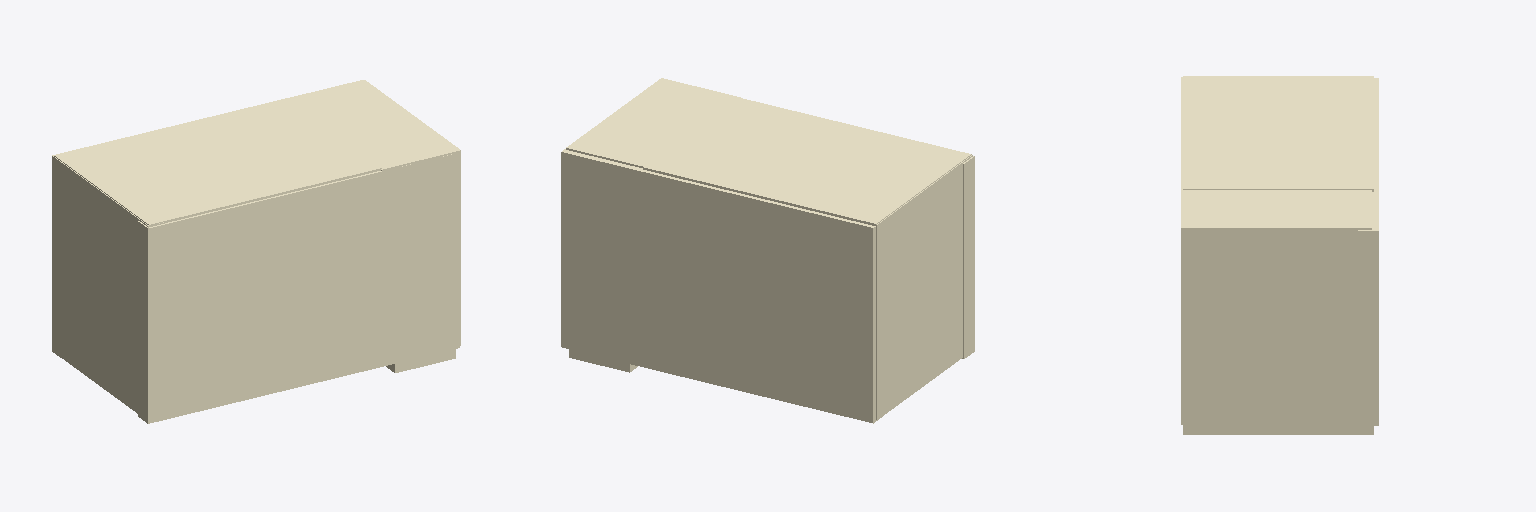
The picture shows the model from 3 angles: view 1: azimuth 30°, elevation 25°; view 2: azimuth 150°, elevation 25°; view 3: azimuth 270°, elevation 25°; orthographic projection.
Bounding box in the file's own units: 0.5139 × 0.3256 × 0.2798.
Materials: 2 (1 with a texture image).